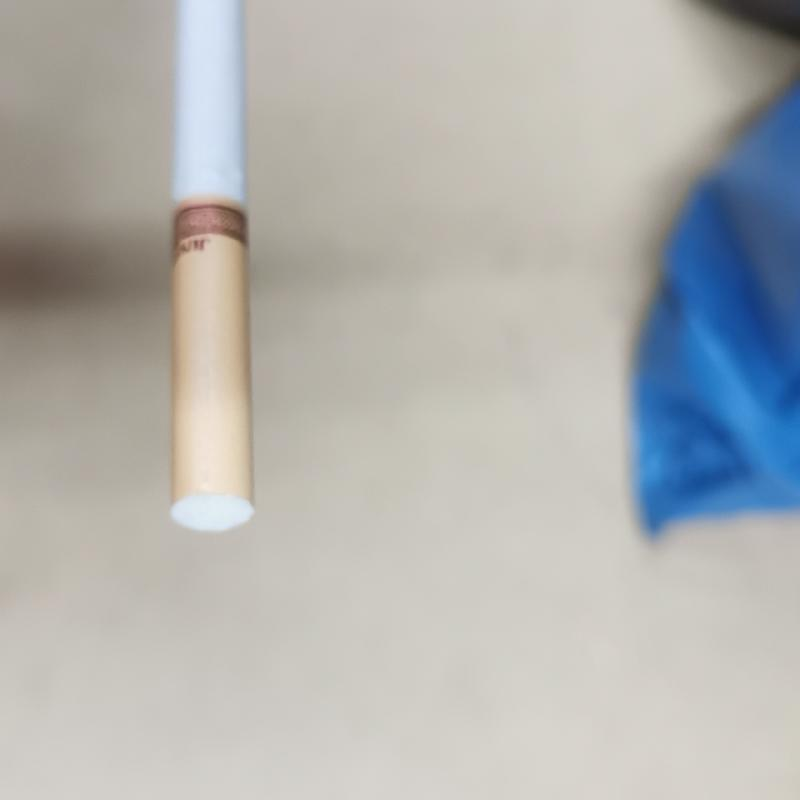cigarette: (160, 2, 263, 540)
